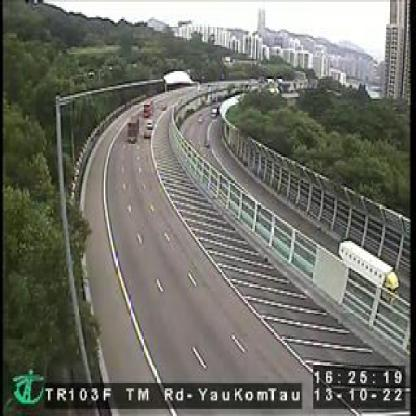Car: (144, 120, 154, 135)
Truck: (127, 114, 140, 141)
